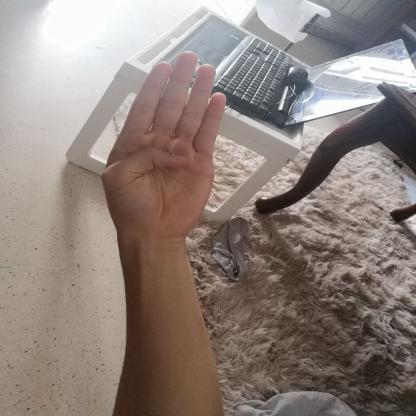KAAF: (83, 39, 245, 249)
